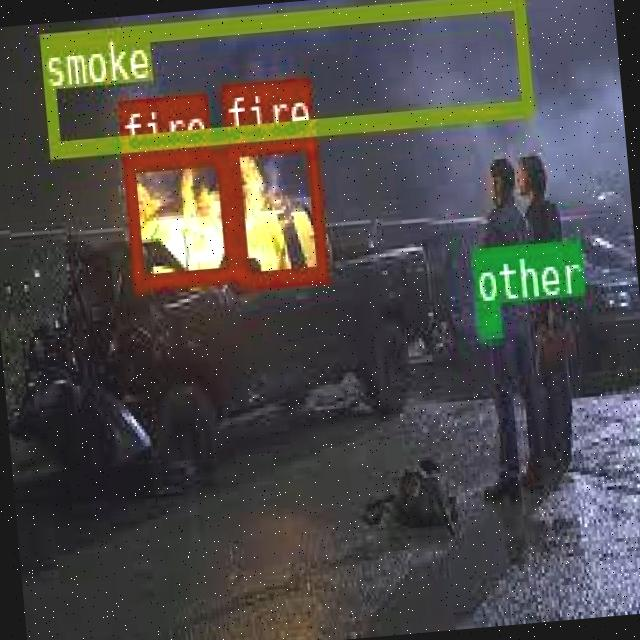fire: (120, 144, 235, 286), (224, 132, 324, 286)
smoke: (37, 0, 531, 155)
